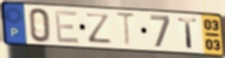0: (28, 7, 51, 44)
7: (148, 14, 173, 50)
E: (53, 9, 82, 45)
T: (114, 11, 137, 49), (176, 17, 199, 50)
Z: (84, 12, 113, 45)
